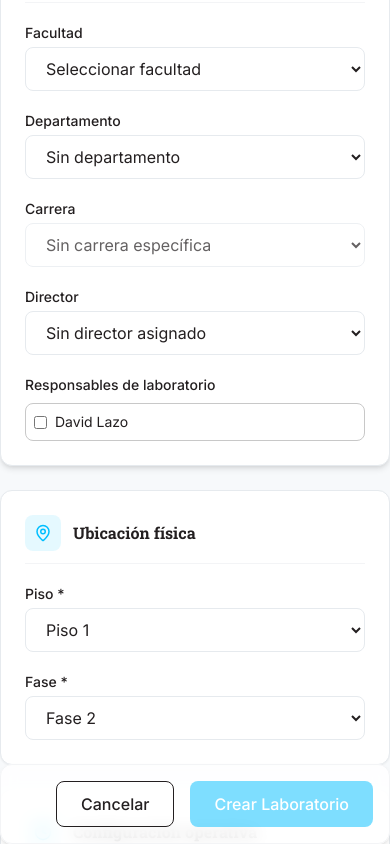
Scenario: CrearLaboratorioPage › cascada inversa: marcar un responsable autocompleta su director y departamento
(page scrolled)
// Sin director elegido, marcar el responsable (David) → autocompleta director Diego (117) y depto 10.
Click the checkbox: (40, 422) 34,416 -> 47,428
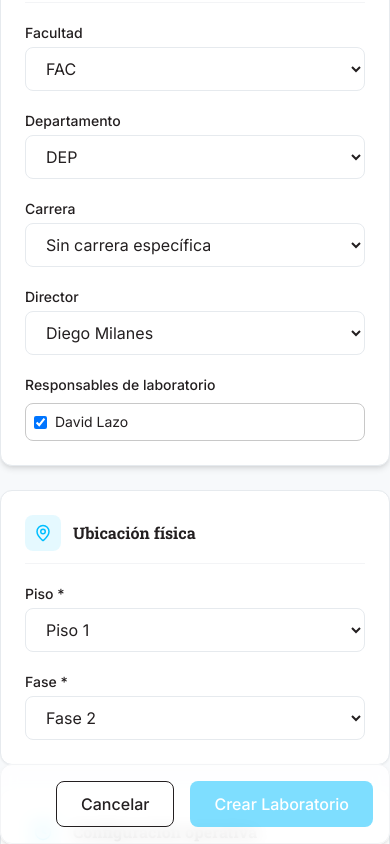
Check: the 4th dropdown named "Diego Milanes" shows "Diego Milanes", box 25,311 -> 365,355
Check: the 2nd dropdown named "DEP" shows "DEP", box 25,135 -> 365,179
